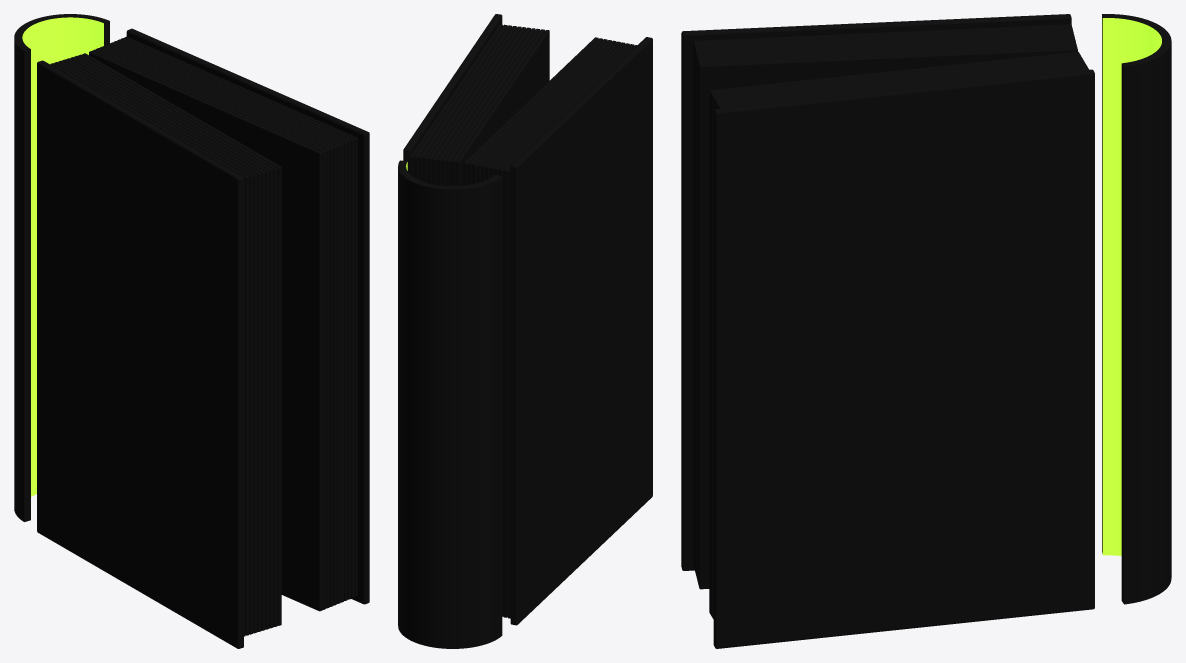
3 views of the same model, side by side, from view 1: azimuth 30°, elevation 25°; view 2: azimuth 150°, elevation 25°; view 3: azimuth 270°, elevation 25° (orthographic). The views are drawn at different scales.
Parts seen in each view (by area): view 1: hon_cover_0, hon_page_12, hon_spine, hon_cover_23, hon_page_13, hon_page_15, hon_page_20, hon_page_05, hon_page_04, hon_page_07, hon_page_09, hon_page_08 (+12 smaller); view 2: hon_cover_0, hon_spine, hon_page_12, hon_page_02, hon_cover_23, hon_page_01, hon_page_03, hon_page_17, hon_page_20, hon_page_16, hon_page_15, hon_page_18 (+13 smaller); view 3: hon_cover_23, hon_spine, hon_page_11, hon_cover_0, hon_page_13, hon_page_02, hon_page_09, hon_page_07, hon_page_14, hon_page_12, hon_page_05, hon_page_04 (+10 smaller).
Boxes of the visible parts, x1=… form: hon_cover_0: x1=37, y1=60, x2=243, y2=648; hon_page_12: x1=89, y1=51, x2=322, y2=611; hon_spine: x1=14, y1=14, x2=109, y2=521; hon_cover_23: x1=126, y1=28, x2=369, y2=604; hon_page_13: x1=92, y1=49, x2=326, y2=609; hon_page_15: x1=99, y1=46, x2=333, y2=606; hon_page_20: x1=117, y1=39, x2=351, y2=599; hon_page_05: x1=58, y1=60, x2=257, y2=633; hon_page_04: x1=54, y1=62, x2=253, y2=634; hon_page_07: x1=66, y1=58, x2=265, y2=630; hon_page_09: x1=74, y1=55, x2=273, y2=628; hon_page_08: x1=70, y1=57, x2=269, y2=629; hon_cover_0: x1=510, y1=37, x2=652, y2=625; hon_spine: x1=398, y1=160, x2=502, y2=648; hon_page_12: x1=455, y1=30, x2=549, y2=185; hon_page_02: x1=503, y1=45, x2=637, y2=617; hon_cover_23: x1=403, y1=14, x2=502, y2=173; hon_page_01: x1=507, y1=168, x2=510, y2=618; hon_page_03: x1=498, y1=44, x2=634, y2=616; hon_page_17: x1=432, y1=27, x2=526, y2=184; hon_page_20: x1=418, y1=25, x2=512, y2=181; hon_page_16: x1=437, y1=27, x2=530, y2=185; hon_page_15: x1=442, y1=28, x2=535, y2=185; hon_page_18: x1=428, y1=26, x2=521, y2=183; hon_cover_23: x1=713, y1=69, x2=1094, y2=648; hon_spine: x1=1102, y1=14, x2=1171, y2=604; hon_page_11: x1=699, y1=47, x2=1077, y2=589; hon_cover_0: x1=681, y1=14, x2=1071, y2=570; hon_page_13: x1=710, y1=54, x2=1080, y2=616; hon_page_02: x1=693, y1=26, x2=1072, y2=566; hon_page_09: x1=697, y1=43, x2=1076, y2=583; hon_page_07: x1=696, y1=38, x2=1075, y2=578; hon_page_14: x1=712, y1=56, x2=1082, y2=618; hon_page_12: x1=709, y1=51, x2=1079, y2=614; hon_page_05: x1=695, y1=33, x2=1074, y2=573; hon_page_04: x1=695, y1=31, x2=1073, y2=571.
Size of the model in its own units: 0.7508 by 1.9 by 1.57.
